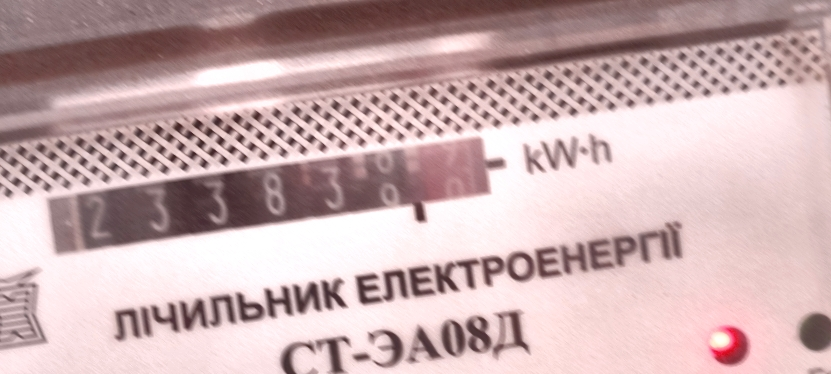0: (442, 172, 467, 201)
2: (82, 192, 113, 241)
3: (139, 182, 175, 234), (197, 175, 233, 227), (316, 162, 346, 210)
8: (256, 168, 290, 218), (371, 146, 397, 176)
9: (436, 136, 461, 169), (376, 178, 401, 210)
screen: (33, 122, 514, 277)
